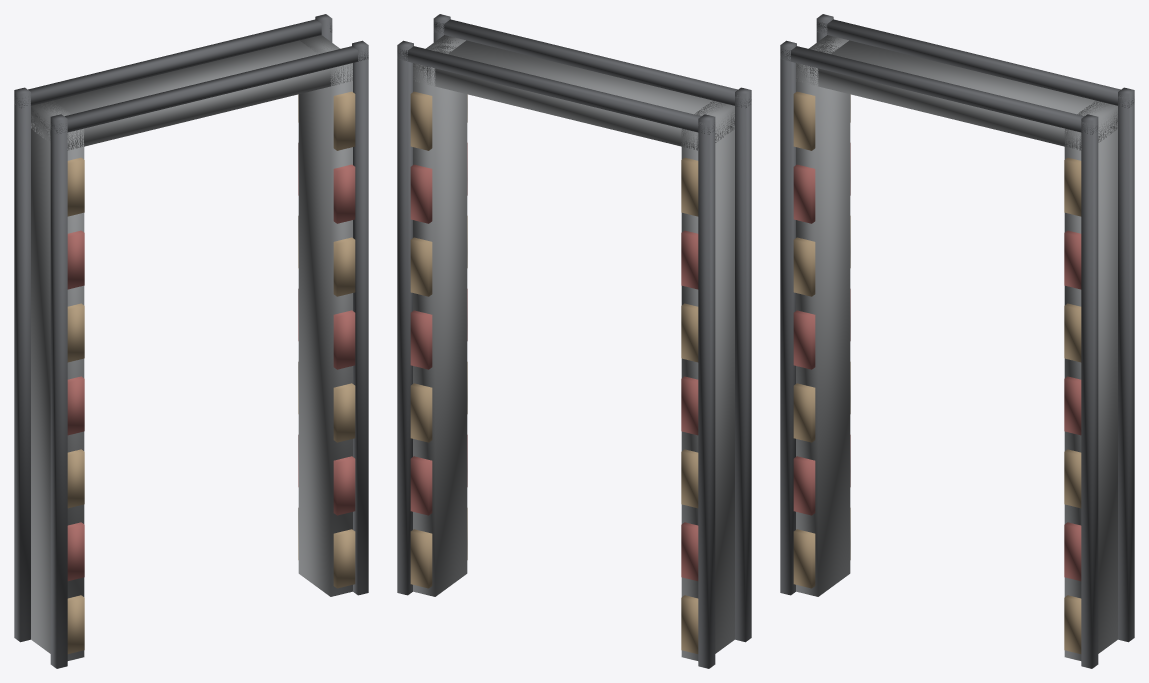
Rendered from doorway_brick_return_w106_h210_d24.glb.
3 views of the same model, side by side, from view 1: azimuth 30°, elevation 25°; view 2: azimuth 150°, elevation 25°; view 3: azimuth 330°, elevation 25° (orthographic).
Parts seen in each view (by area): view 1: world; view 2: world; view 3: world.
Part boxes in pixels (x1,y1,x2,y2): world: (14,14,368,668); world: (397,14,751,668); world: (780,14,1134,668).
Bounding box in the file's own units: 1.34 × 2.25 × 0.3178.
